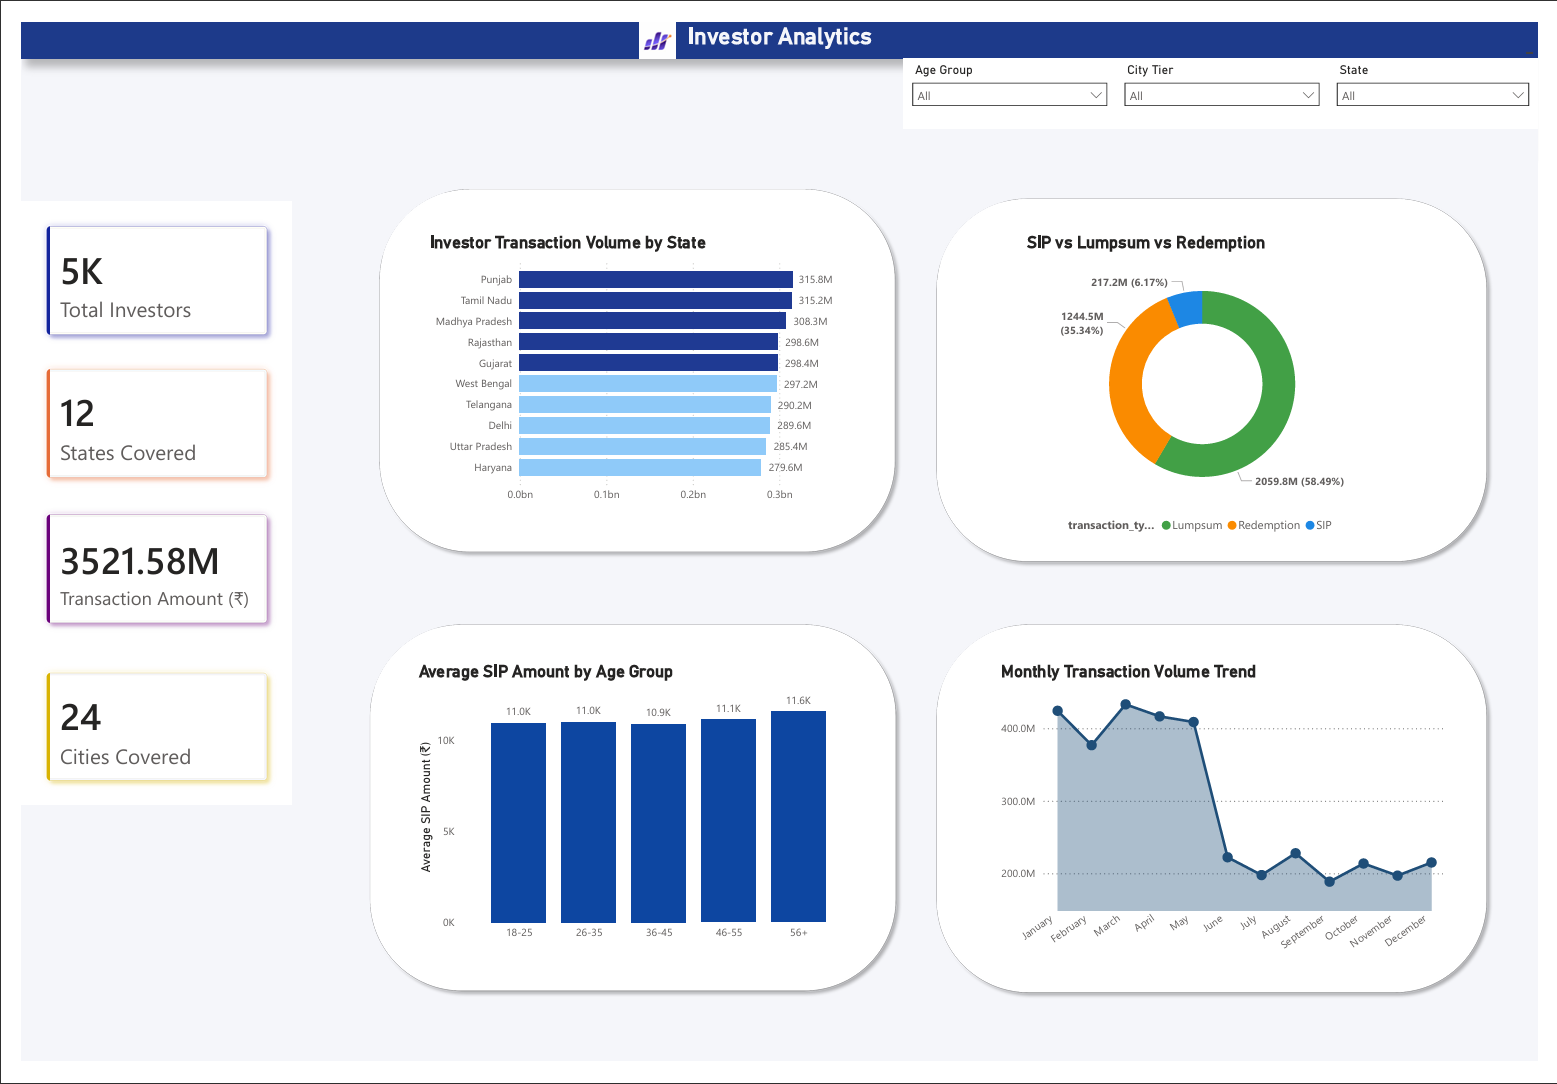

The dashboard page shown, as its layout file describes it:
{"tool":"powerbi","page":{"name":"Investor Analytics","canvas":[1750,1200],"ordinal":2},"visuals":[{"type":"textbox","title":"Investor Analytics","box":[0,0,1750,41.7],"z":0},{"type":"cardVisual","fields":{"Data":["08_investor_transactions_cleaned.Total Investors"]},"box":[0,206.7,311.7,183.3],"z":1000},{"type":"cardVisual","fields":{"Data":["Sum(08_investor_transactions_cleaned.amount_inr)"]},"box":[0,540,311.7,183.3],"z":2000},{"type":"cardVisual","fields":{"Data":["08_investor_transactions_cleaned.States Covered"]},"box":[0,371.7,311.7,183.3],"z":3000},{"type":"cardVisual","fields":{"Data":["08_investor_transactions_cleaned.Cities Covered"]},"box":[0,723.3,311.7,181.7],"z":4000},{"type":"slicer","fields":{"Values":["08_investor_transactions_cleaned.state"]},"box":[1508.3,41.7,241.7,81.7],"z":5000},{"type":"slicer","fields":{"Values":["08_investor_transactions_cleaned.age_group"]},"box":[1018.3,41.7,245,81.7],"z":6000},{"type":"shape","box":[1046.7,195,653.3,436.7],"z":7000},{"type":"shape","box":[404.3,184.3,612.9,437.1],"z":8000},{"type":"shape","box":[393.3,686.7,625,441.7],"z":8500},{"type":"slicer","fields":{"Values":["08_investor_transactions_cleaned.city_tier"]},"box":[1263.3,41.7,245,81.7],"z":9000},{"type":"shape","box":[1046.7,686.7,653.3,443.3],"z":10000},{"type":"clusteredBarChart","title":"Investor Transaction Volume by State","fields":{"Category":["08_investor_transactions_cleaned.state"],"Y":["Sum(08_investor_transactions_cleaned.amount_inr)"]},"box":[465.7,242.9,490,320],"z":11000},{"type":"donutChart","title":"SIP vs Lumpsum vs Redemption","fields":{"Category":["08_investor_transactions_cleaned.transaction_type"],"Y":["Sum(08_investor_transactions_cleaned.amount_inr)"]},"box":[1155,243.3,415,356.7],"z":12000},{"type":"clusteredColumnChart","title":"Average SIP Amount by Age Group","fields":{"Category":["08_investor_transactions_cleaned.age_group"],"Y":["Avg(08_investor_transactions_cleaned.amount_inr)"]},"box":[453.3,738.3,513.3,331.7],"z":13000},{"type":"lineChart","title":"Monthly Transaction Volume Trend","fields":{"Category":["08_investor_transactions_cleaned.transaction_date.Variation.Date Hierarchy.Year","08_investor_transactions_cleaned.transaction_date.Variation.Date Hierarchy.Month"],"Y":["Sum(08_investor_transactions_cleaned.amount_inr)"]},"box":[1125,738.3,523.3,355],"z":14000},{"type":"image","box":[694.3,1.4,78.6,41.4],"z":14001}]}

Visuals, with their boxes in screenshot pixels (x1, y1, x2, y2), scaled from the page's 1750x1200 canvas onto the 1557x1084 screenshot:
"Investor Analytics" textbox: <box>0,0,1556,38</box>
cardVisual - 08_investor_transactions_cleaned.Total Investors: <box>0,187,277,352</box>
cardVisual - Sum(08_investor_transactions_cleaned.amount_inr): <box>0,488,277,653</box>
cardVisual - 08_investor_transactions_cleaned.States Covered: <box>0,336,277,501</box>
cardVisual - 08_investor_transactions_cleaned.Cities Covered: <box>0,653,277,818</box>
slicer - 08_investor_transactions_cleaned.state: <box>1342,38,1556,111</box>
slicer - 08_investor_transactions_cleaned.age_group: <box>906,38,1124,111</box>
shape: <box>931,176,1513,571</box>
shape: <box>360,166,905,561</box>
shape: <box>350,620,906,1019</box>
slicer - 08_investor_transactions_cleaned.city_tier: <box>1124,38,1342,111</box>
shape: <box>931,620,1513,1021</box>
"Investor Transaction Volume by State" clusteredBarChart: <box>414,219,850,508</box>
"SIP vs Lumpsum vs Redemption" donutChart: <box>1028,220,1397,542</box>
"Average SIP Amount by Age Group" clusteredColumnChart: <box>403,667,860,967</box>
"Monthly Transaction Volume Trend" lineChart: <box>1001,667,1467,988</box>
image: <box>618,1,688,39</box>
